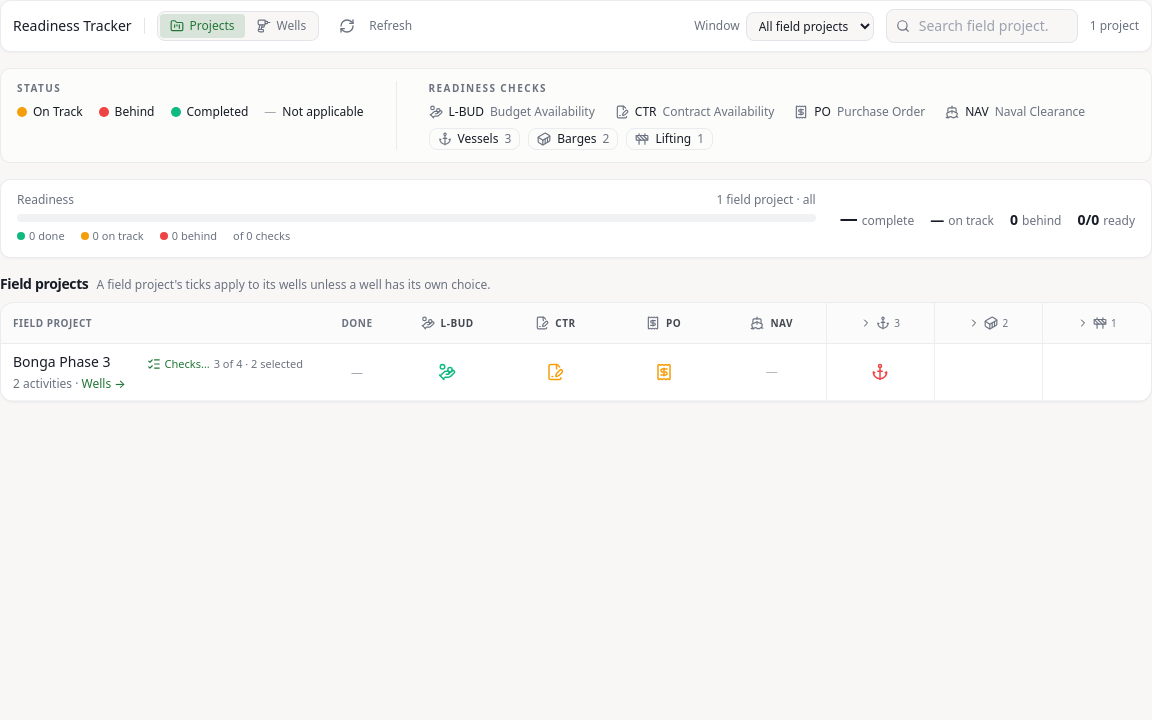
Scenario: the grouped, searchable tick list (spec §8.8) › a search that matches nothing says so
Click the button "Checks… 3 of 4 · 2 selected".
click(225, 364)  # box 141,352 -> 309,376
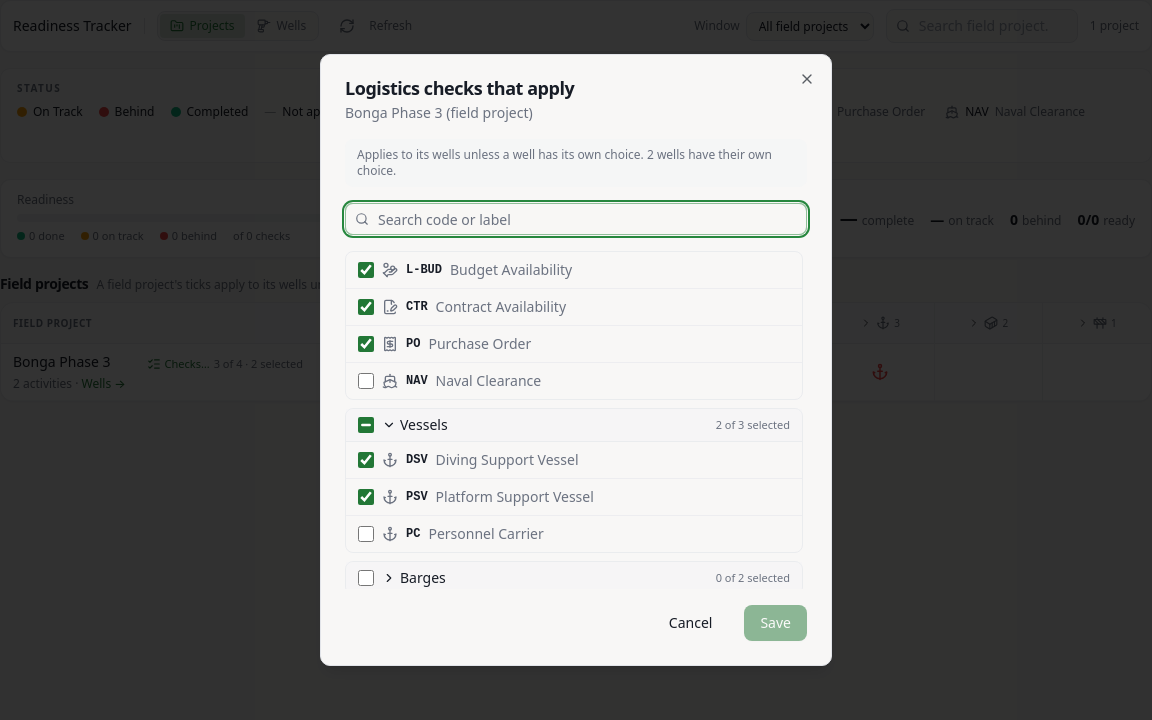
Type "zzz" into the search field named "Search checks".
click(576, 219); type("zzz")  # box 345,203 -> 807,235
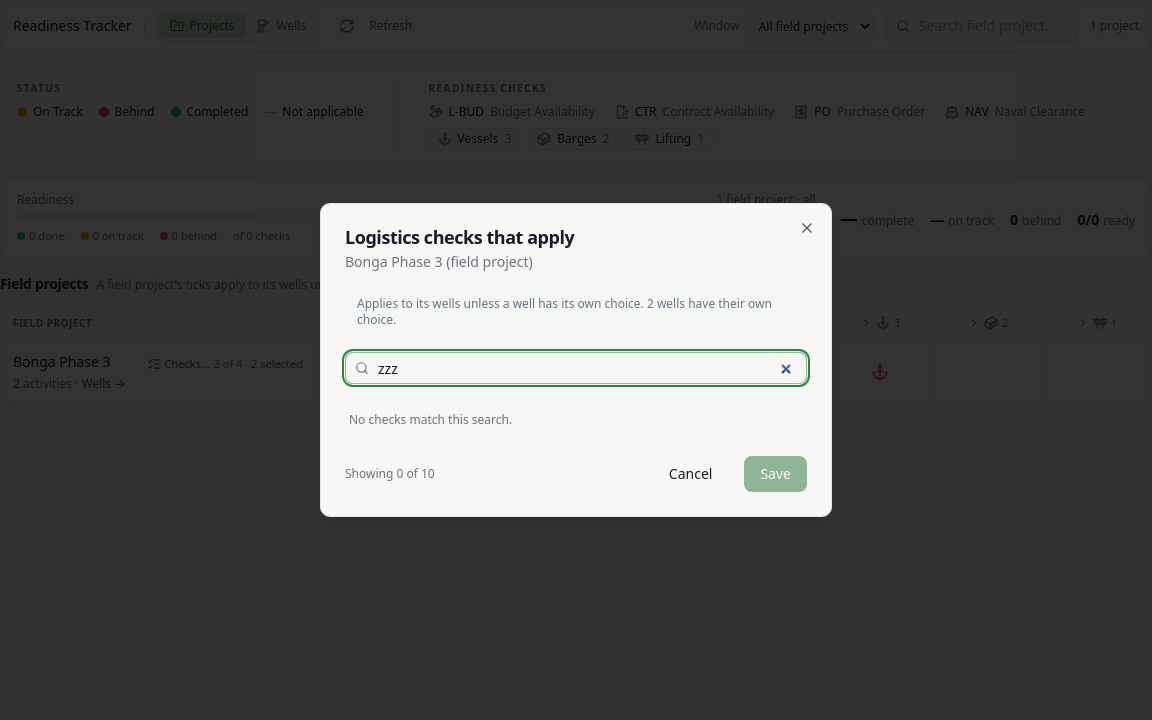
Check: the text "No checks match this search." is shown, box 349,411 -> 512,428
Check: the text with test id "picker-footer" reads "Showing 0 of 10", box 345,465 -> 435,482
